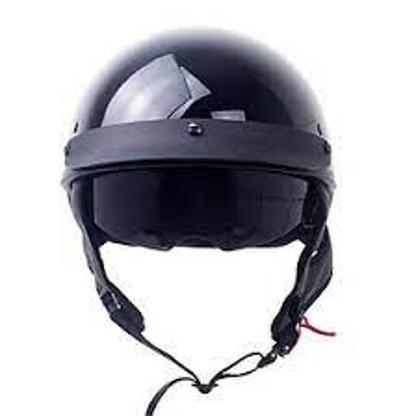not trash: (61, 24, 338, 389)
